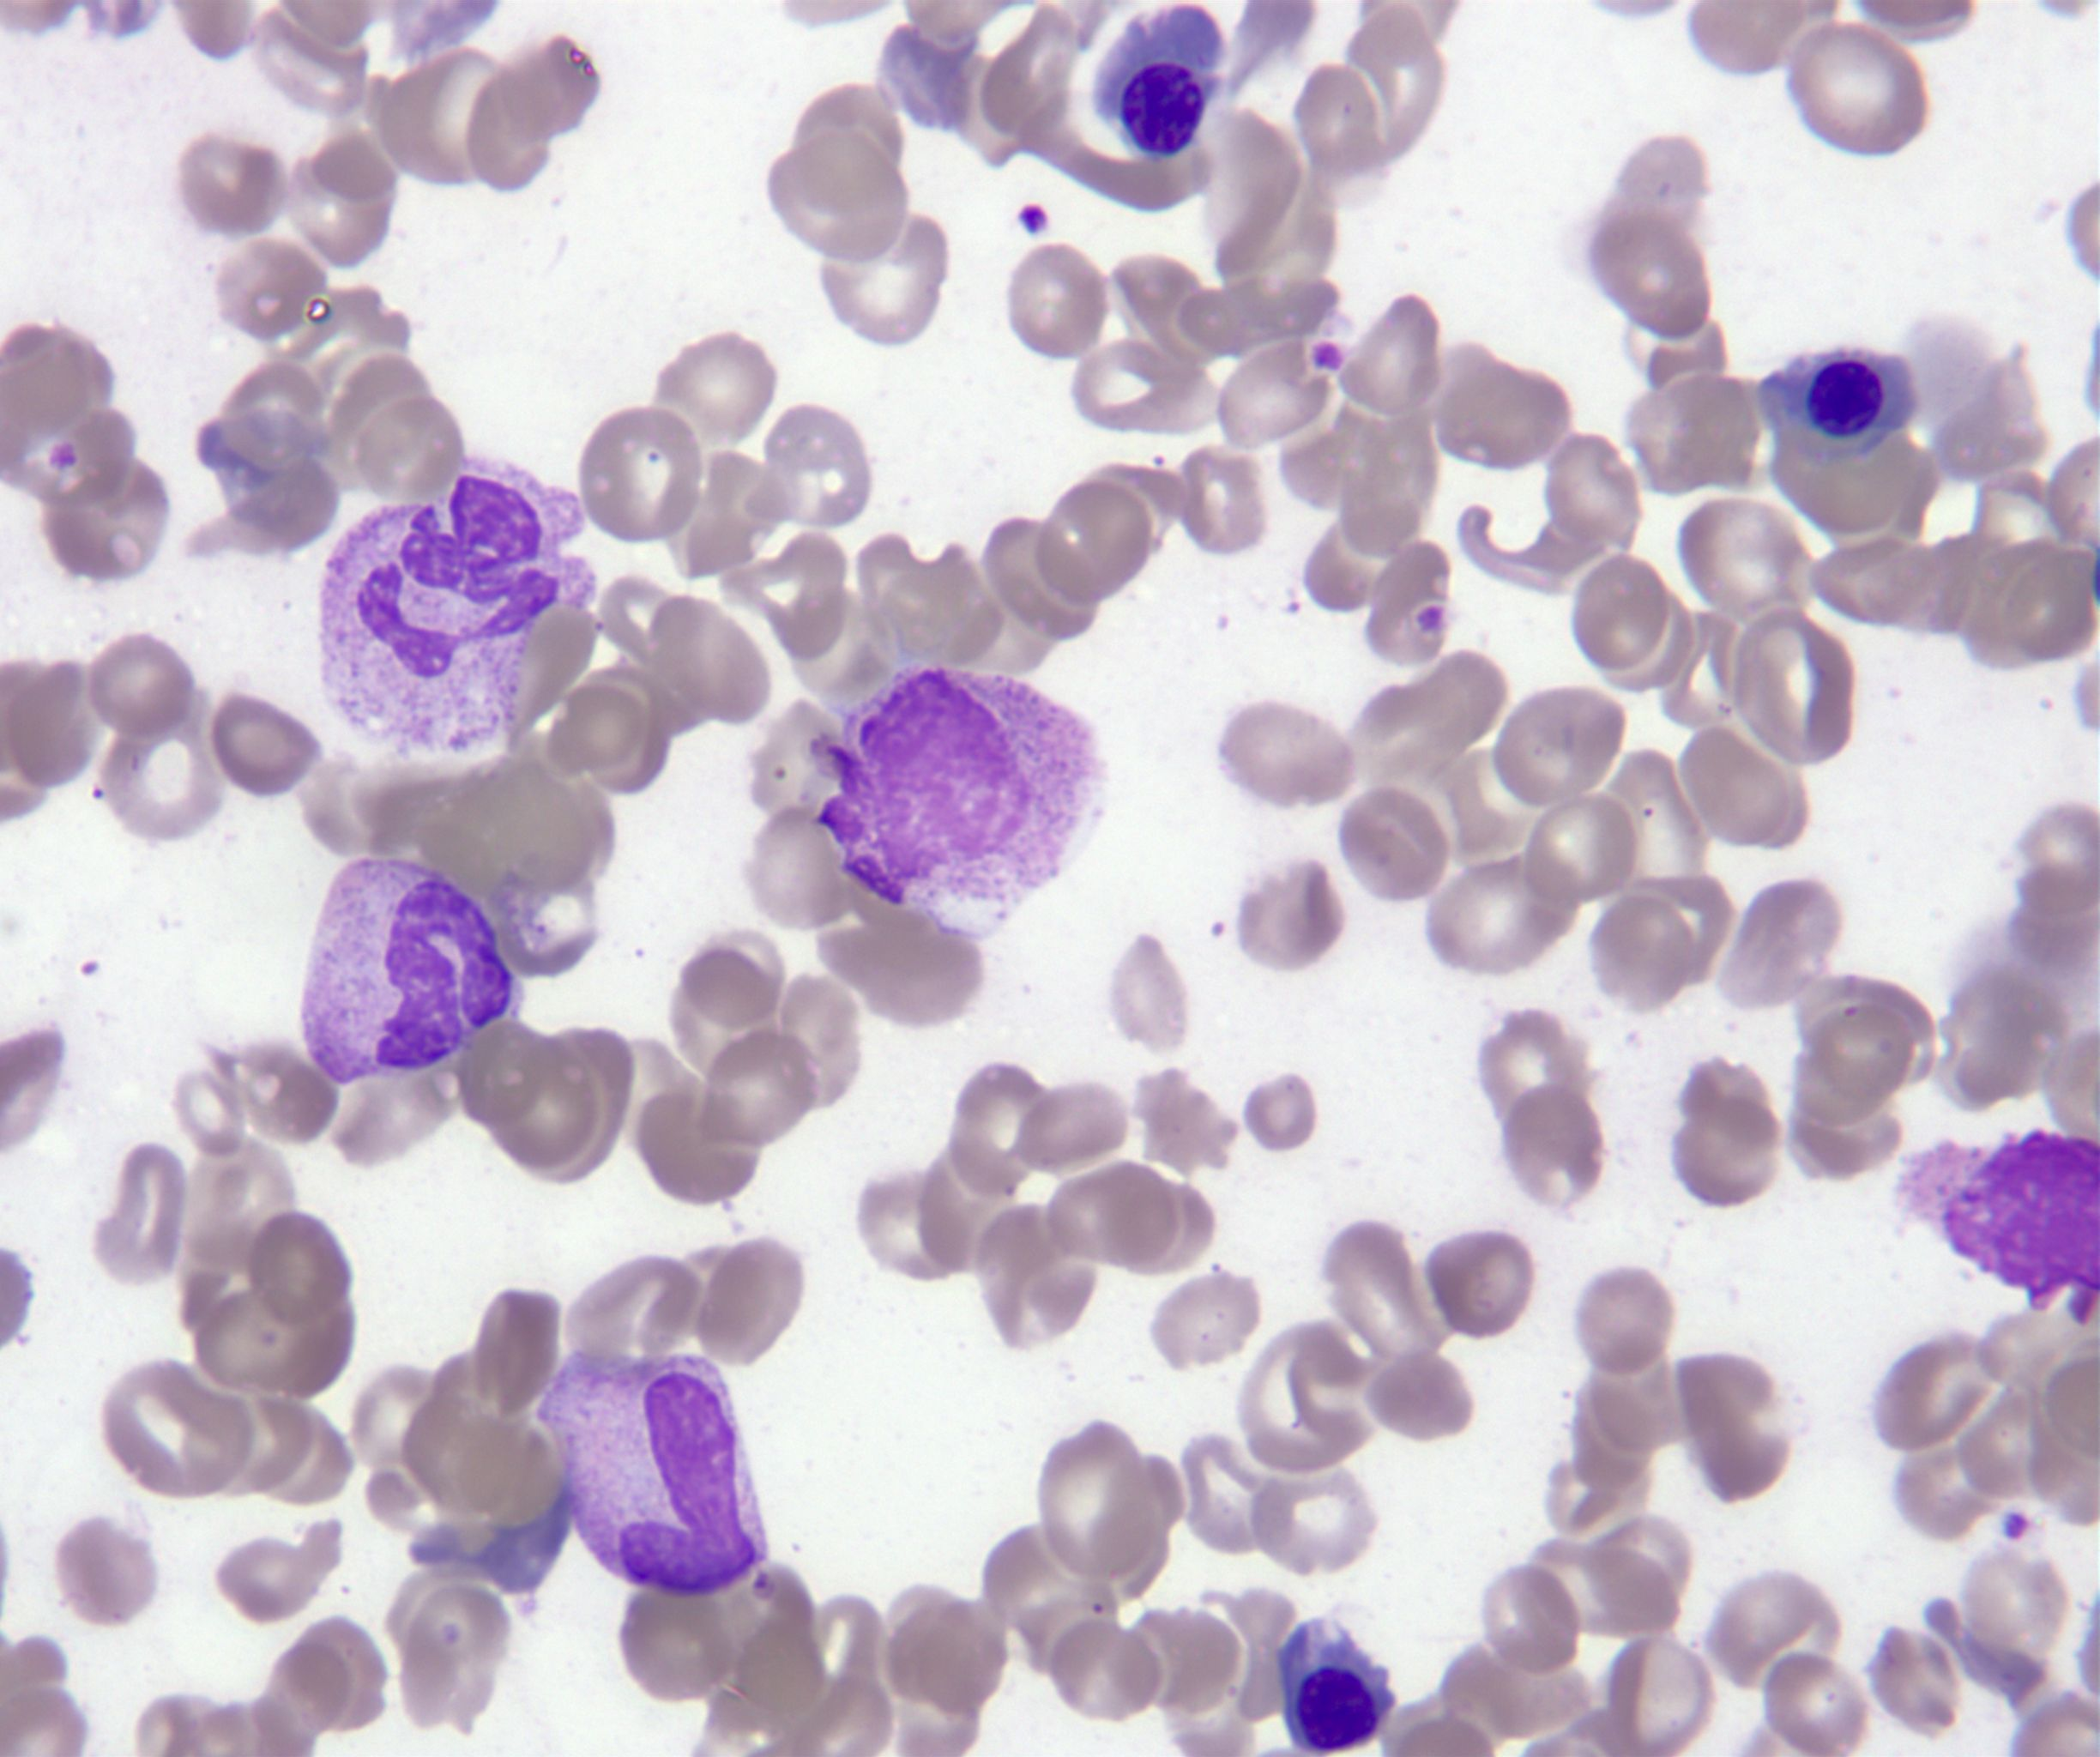24: (1097, 2, 1226, 157), (1753, 351, 1919, 461), (1278, 1617, 1397, 1754)
4: (537, 1347, 767, 1598)
5: (298, 858, 522, 1087)
6: (321, 455, 593, 752)
x: (809, 667, 1104, 933), (1898, 1127, 2100, 1324)
